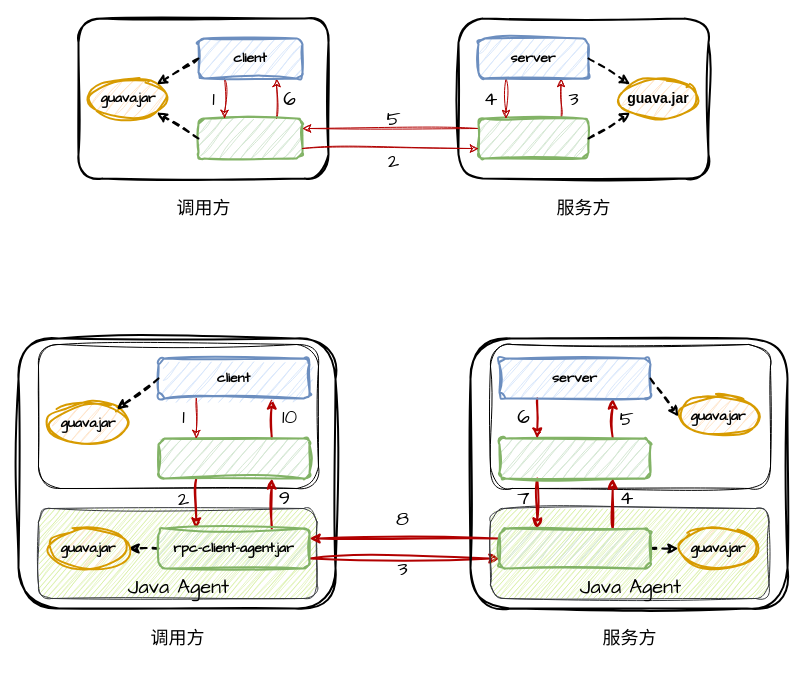
This 805x675 diagram has some shape labels left out. The shapes that lost their labels are listed below. From the top down, each one's centre as x and y in pixels, then its label:
At point (250, 138): "rpc-client.jar".
At point (533, 138): "rpc-server.jar".
At point (233, 458): "rpc-client-api.jar".
At point (574, 458): "rpc-server-api.jar".
At point (574, 548): "rpc-server-agent.jar".
